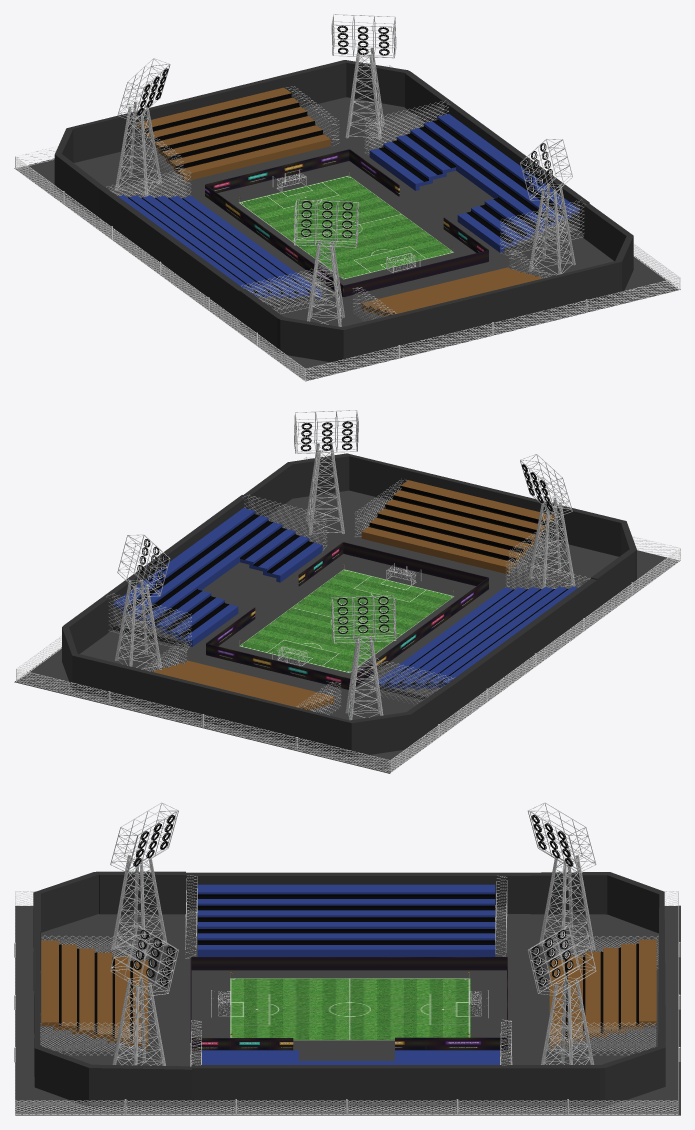
File: Football_Field.fbx
The picture shows the model from 3 angles, top to bottom: view 1: azimuth 30°, elevation 25°; view 2: azimuth 150°, elevation 25°; view 3: azimuth 270°, elevation 25°; orthographic projection. The views are drawn at different scales.
Visible parts, largest first — view 1: Cube.007, Cube, Cube.006, saha, Cube.016, Cube.001, Pano, Plane.003, Plane, Fener, Fener.001, Fener.002 (+10 smaller); view 2: Cube.007, Cube, Cube.006, saha, Cube.020, Cube.001, Pano, Plane, Plane.002, Fener.003, Fener.002, Fener (+9 smaller); view 3: Cube, Cube.007, Cube.001, saha, Cube.020, Cube.016, Plane.001, Pano, Fener, Fener.003, Fener.002, Fener.001 (+7 smaller).
Boxes of the visible parts, box(x1,y1,x2,y2) form: Cube.007: box(54, 60, 633, 363); Cube: box(14, 97, 680, 381); Cube.006: box(369, 114, 579, 252); saha: box(238, 175, 453, 279); Cube.016: box(137, 87, 330, 181); Cube.001: box(118, 195, 321, 298); Pano: box(205, 149, 488, 296); Plane.003: box(305, 277, 680, 381); Plane: box(15, 156, 304, 380); Fener: box(520, 139, 575, 275); Fener.001: box(294, 199, 358, 326); Fener.002: box(115, 58, 170, 196); Cube.007: box(62, 453, 636, 757); Cube: box(14, 490, 679, 773); Cube.006: box(113, 508, 322, 646); saha: box(239, 569, 454, 673); Cube.020: box(361, 480, 554, 574); Cube.001: box(378, 586, 577, 689); Pano: box(206, 542, 488, 689); Plane: box(391, 548, 680, 772); Plane.002: box(16, 669, 390, 772); Fener.003: box(114, 534, 170, 669); Fener.002: box(331, 595, 396, 720); Fener: box(294, 410, 358, 535); Cube: box(15, 905, 680, 1115); Cube.007: box(33, 871, 665, 1107); Cube.001: box(197, 884, 495, 956); saha: box(230, 978, 470, 1040); Cube.020: box(41, 940, 148, 1050); Cube.016: box(549, 939, 656, 1048); Plane.001: box(15, 1100, 678, 1114); Pano: box(190, 957, 507, 1051); Fener: box(110, 925, 178, 1065); Fener.003: box(527, 925, 596, 1064); Fener.002: box(528, 802, 596, 958); Fener.001: box(110, 802, 178, 958).
Size of the model in its own units: 6898 by 2204 by 9255.
